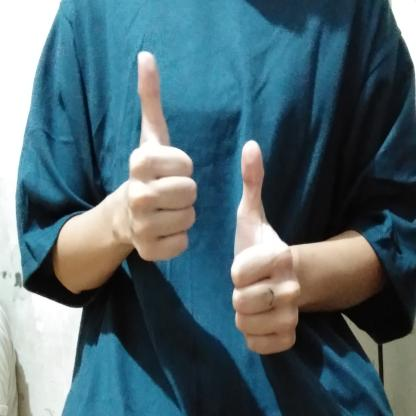which: (120, 47, 302, 356)
